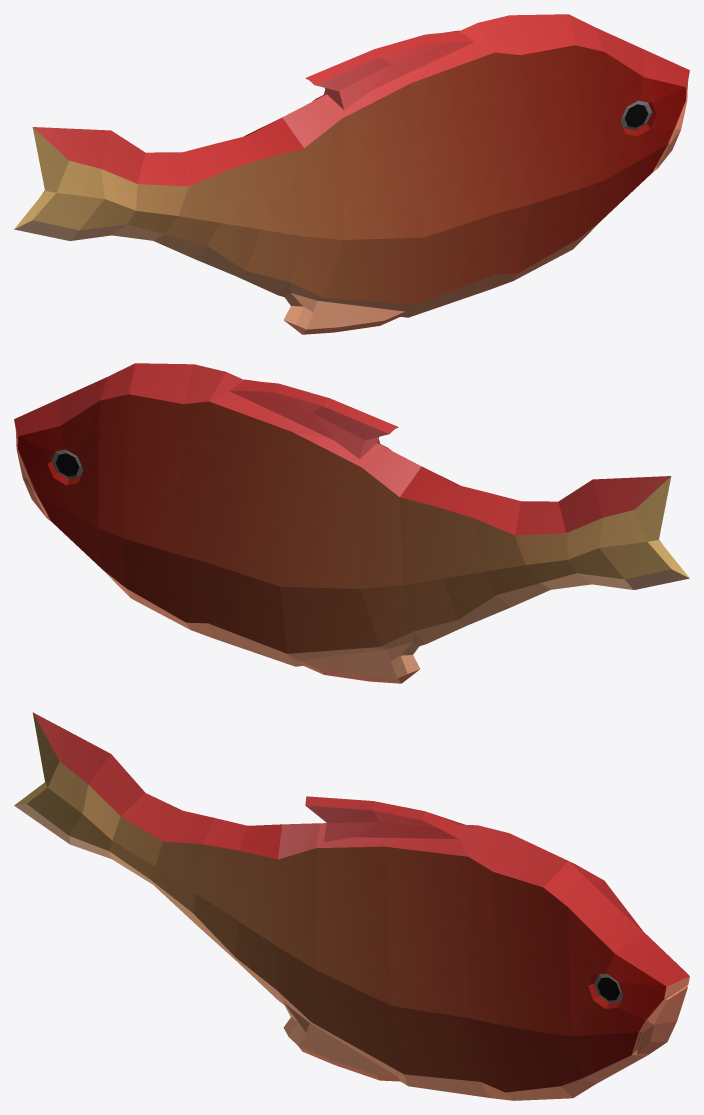
File: fish_red.glb
The picture shows the model from 3 angles, top to bottom: view 1: azimuth 30°, elevation 25°; view 2: azimuth 150°, elevation 25°; view 3: azimuth 330°, elevation 25°; orthographic projection.
Visible parts, largest first — view 1: FishV1; view 2: FishV1; view 3: FishV1.
Part boxes in pixels (left/top/right/bottom): FishV1: left=14, top=14, right=689, bottom=334; FishV1: left=14, top=363, right=689, bottom=683; FishV1: left=14, top=712, right=689, bottom=1100.
Bounding box in the file's own units: 0.7706 × 0.3091 × 0.0722.
Materials: 1 (1 with a texture image).
